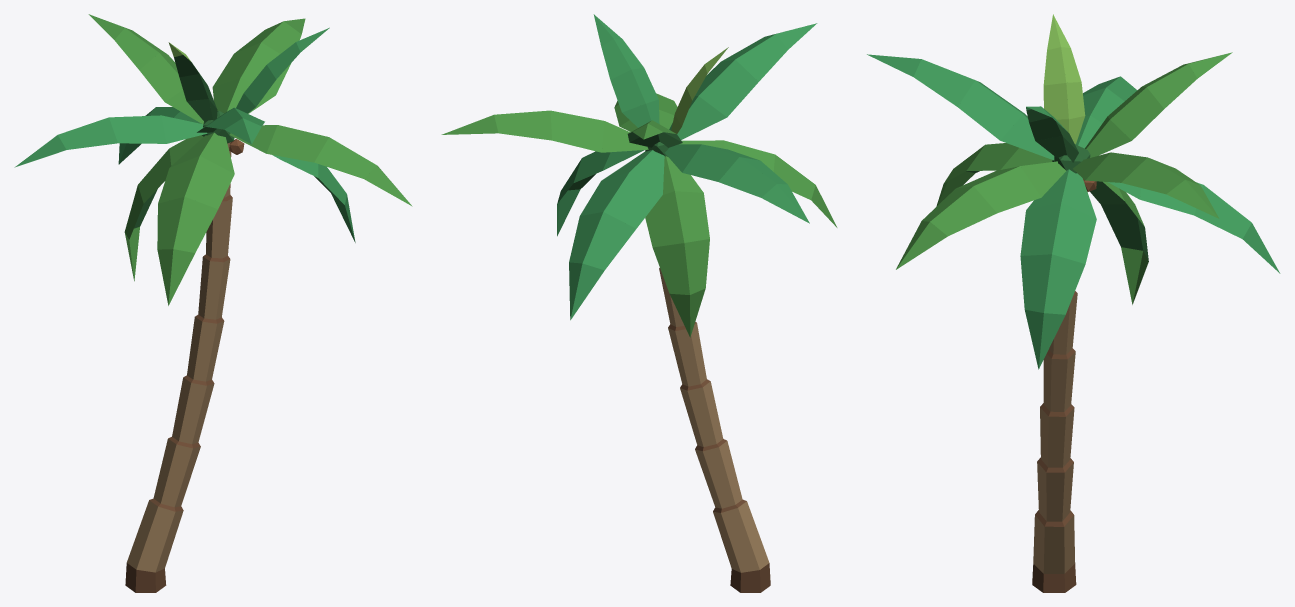
The model's file is tree_palm_a.glb.
3 renders of one model, left to right at view 1: azimuth 30°, elevation 25°; view 2: azimuth 150°, elevation 25°; view 3: azimuth 270°, elevation 25°, orthographic. The views are drawn at different scales.
Parts seen in each view (by area): view 1: tree_palm_a__mesh; view 2: tree_palm_a__mesh; view 3: tree_palm_a__mesh.
Boxes of the visible parts, x1,y1,x2,y2 form: tree_palm_a__mesh: [14, 14, 412, 592]; tree_palm_a__mesh: [441, 14, 837, 592]; tree_palm_a__mesh: [867, 14, 1280, 592].
Bounding box in the file's own units: 6.03 × 9.35 × 6.02.
Materials: 2 (2 with a texture image).
